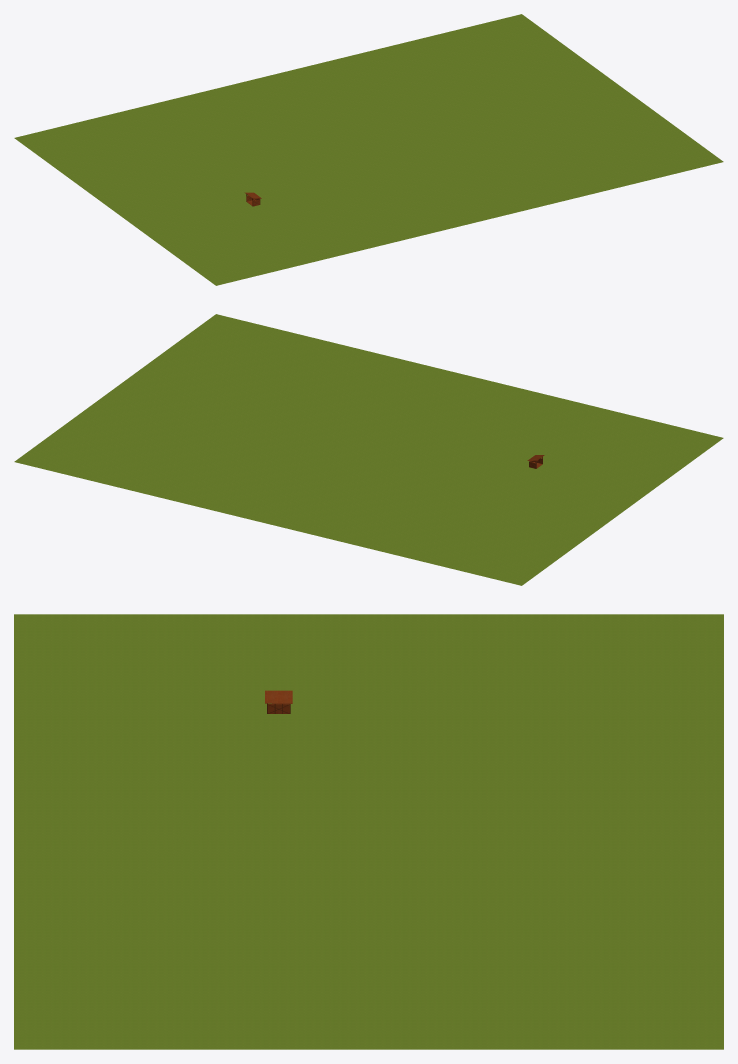
File: gapahuk.glb
3 renders of one model, top to bottom at view 1: azimuth 30°, elevation 25°; view 2: azimuth 150°, elevation 25°; view 3: azimuth 270°, elevation 25°, orthographic. The views are drawn at different scales.
Size of the model in its own units: 140 by 2.5 by 96.56.
7 materials, 5 textured.
